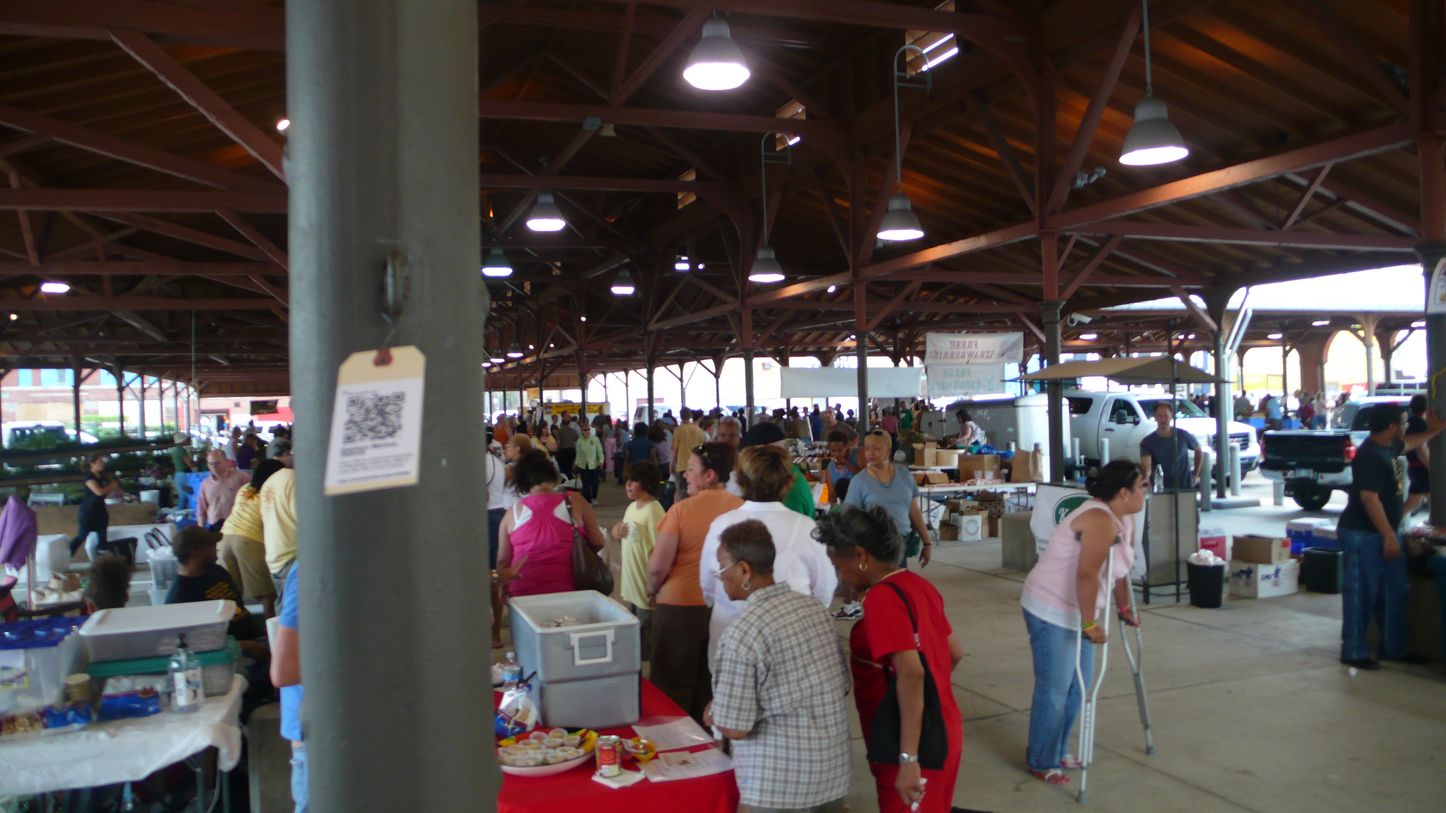QR-CODE: (342, 391, 404, 443)
